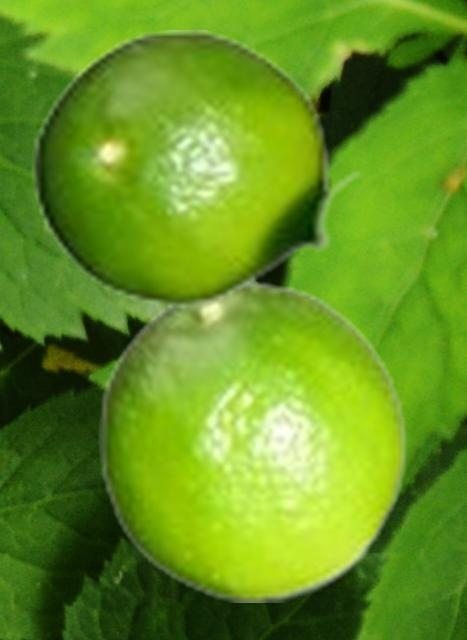calamansi: (98, 279, 408, 601), (30, 30, 364, 307)
